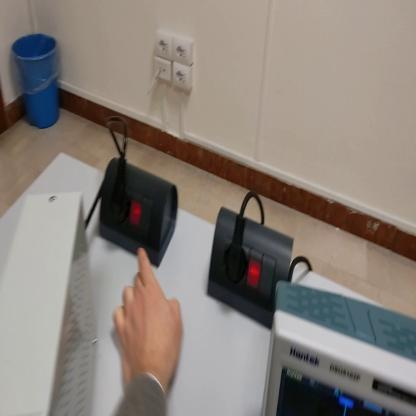hand: (113, 247, 183, 388)
oscilloscope: (264, 283, 416, 416)
power supply: (2, 185, 99, 416)
socket: (208, 204, 297, 334), (96, 157, 177, 272)
